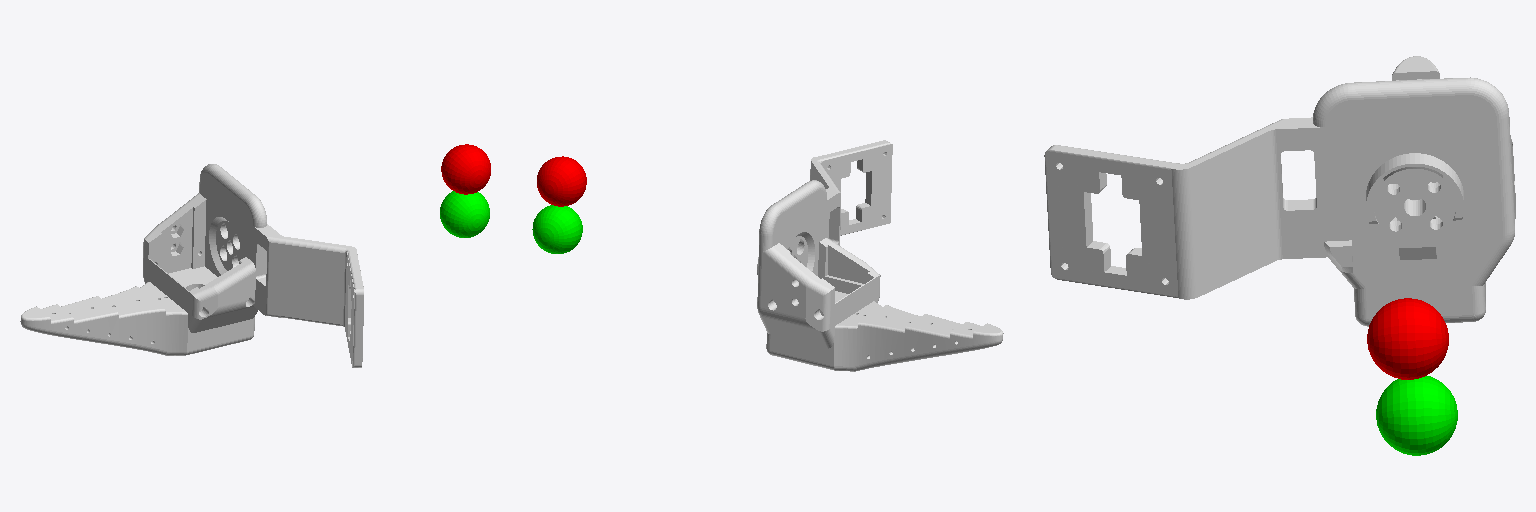
URDF robot description (so101_new_calib):
<?xml version="1.0" encoding="utf-8"?>
<!-- Generated using onshape-to-robot -->
<!-- Onshape https://cad.onshape.com/documents/7715cc284bb430fe6dab4ffd/w/4fd0791b683777b02f8d975a/e/826c553ede3b7592eb9ca800 -->
<robot name="so101_new_calib">

  <!-- Materials -->
  <material name="3d_printed">
    <color rgba="0.9 0.9 0.9 1.0"/>
  </material>
  <material name="sts3215">
    <color rgba="0.1 0.1 0.1 1.0"/>
  </material>

  <!-- Link base -->
  <link name="base_link">
    <inertial>
      <origin xyz="0.0137179 -5.19711e-05 0.0334843" rpy="0 0 0"/>
      <mass value="0.147"/>
      <inertia ixx="0.000114686" ixy="-4.59787e-07" ixz="4.97151e-06" iyy="0.000136117" iyz="9.75275e-08" izz="0.000130364"/>
    </inertial>
    <!-- Part base_motor_holder_so101_v1 -->
    <visual>
      <origin xyz="-0.00636471 -9.94414e-05 -0.0024" rpy="1.5708 -1.67685e-15 1.5708"/>
      <geometry>
        <mesh filename="assets/base_motor_holder_so101_v1.stl"/>
      </geometry>
      <material name="3d_printed"/>
    </visual>
    <collision>
      <origin xyz="-0.00636471 -9.94414e-05 -0.0024" rpy="1.5708 -1.67685e-15 1.5708"/>
      <geometry>
        <mesh filename="assets/base_motor_holder_so101_v1.stl"/>
      </geometry>
    </collision>
    <!-- Part base_so101_v2 -->
    <visual>
      <origin xyz="-0.00636471 -8.97657e-09 -0.0024" rpy="1.5708 -2.78073e-29 1.5708"/>
      <geometry>
        <mesh filename="assets/base_so101_v2.stl"/>
      </geometry>
      <material name="3d_printed"/>
    </visual>
    <collision>
      <origin xyz="-0.00636471 -8.97657e-09 -0.0024" rpy="1.5708 -2.78073e-29 1.5708"/>
      <geometry>
        <mesh filename="assets/base_so101_v2.stl"/>
      </geometry>
    </collision>
    <!-- Part sts3215_03a_v1 -->
    <visual>
      <origin xyz="0.0263353 -8.97657e-09 0.0437" rpy="-8.21148e-16 7.84513e-18 1.249e-15"/>
      <geometry>
        <mesh filename="assets/sts3215_03a_v1.stl"/>
      </geometry>
      <material name="sts3215"/>
    </visual>
    <collision>
      <origin xyz="0.0263353 -8.97657e-09 0.0437" rpy="-8.21148e-16 7.84513e-18 1.249e-15"/>
      <geometry>
        <mesh filename="assets/sts3215_03a_v1.stl"/>
      </geometry>
    </collision>
    <!-- Part waveshare_mounting_plate_so101_v2 -->
    <visual>
      <origin xyz="-0.0309827 -0.000199441 0.0474" rpy="1.5708 -1.35493e-14 1.5708"/>
      <geometry>
        <mesh filename="assets/waveshare_mounting_plate_so101_v2.stl"/>
      </geometry>
      <material name="3d_printed"/>
    </visual>
    <collision>
      <origin xyz="-0.0309827 -0.000199441 0.0474" rpy="1.5708 -1.35493e-14 1.5708"/>
      <geometry>
        <mesh filename="assets/waveshare_mounting_plate_so101_v2.stl"/>
      </geometry>
    </collision>
  </link>

  <!-- Link shoulder -->
  <link name="shoulder_link">
    <inertial>
      <origin xyz="-0.0307604 -1.66727e-05 -0.0252713" rpy="0 0 0"/>
      <mass value="0.100006"/>
      <inertia ixx="8.3759e-05" ixy="7.55525e-08" ixz="-1.16342e-06" iyy="8.10403e-05" iyz="1.54663e-07" izz="2.39783e-05"/>
    </inertial>
    <!-- Part sts3215_03a_v1_2 -->
    <visual>
      <origin xyz="-0.0303992 0.000422241 -0.0417" rpy="1.5708 1.5708 0"/>
      <geometry>
        <mesh filename="assets/sts3215_03a_v1.stl"/>
      </geometry>
      <material name="sts3215"/>
    </visual>
    <collision>
      <origin xyz="-0.0303992 0.000422241 -0.0417" rpy="1.5708 1.5708 0"/>
      <geometry>
        <mesh filename="assets/sts3215_03a_v1.stl"/>
      </geometry>
    </collision>
    <!-- Part motor_holder_so101_base_v1 -->
    <visual>
      <origin xyz="-0.0675992 -0.000177759 0.0158499" rpy="1.5708 -1.5708 0"/>
      <geometry>
        <mesh filename="assets/motor_holder_so101_base_v1.stl"/>
      </geometry>
      <material name="3d_printed"/>
    </visual>
    <collision>
      <origin xyz="-0.0675992 -0.000177759 0.0158499" rpy="1.5708 -1.5708 0"/>
      <geometry>
        <mesh filename="assets/motor_holder_so101_base_v1.stl"/>
      </geometry>
    </collision>
    <!-- Part rotation_pitch_so101_v1 -->
    <visual>
      <origin xyz="0.0122008 2.22413e-05 0.0464" rpy="-1.5708 2.35221e-33 0"/>
      <geometry>
        <mesh filename="assets/rotation_pitch_so101_v1.stl"/>
      </geometry>
      <material name="3d_printed"/>
    </visual>
    <collision>
      <origin xyz="0.0122008 2.22413e-05 0.0464" rpy="-1.5708 2.35221e-33 0"/>
      <geometry>
        <mesh filename="assets/rotation_pitch_so101_v1.stl"/>
      </geometry>
    </collision>
  </link>

  <!-- Link upper_arm -->
  <link name="upper_arm_link">
    <inertial>
      <origin xyz="-0.0898471 -0.00838224 0.0184089" rpy="0 0 0"/>
      <mass value="0.103"/>
      <inertia ixx="4.08002e-05" ixy="-1.97819e-05" ixz="-4.03016e-08" iyy="0.000147318" iyz="8.97326e-09" izz="0.000142487"/>
    </inertial>
    <!-- Part sts3215_03a_v1_3 -->
    <visual>
      <origin xyz="-0.11257 -0.0155 0.0187" rpy="-3.14159 -5.27356e-16 -1.5708"/>
      <geometry>
        <mesh filename="assets/sts3215_03a_v1.stl"/>
      </geometry>
      <material name="sts3215"/>
    </visual>
    <collision>
      <origin xyz="-0.11257 -0.0155 0.0187" rpy="-3.14159 -5.27356e-16 -1.5708"/>
      <geometry>
        <mesh filename="assets/sts3215_03a_v1.stl"/>
      </geometry>
    </collision>
    <!-- Part upper_arm_so101_v1 -->
    <visual>
      <origin xyz="-0.065085 0.012 0.0182" rpy="3.14159 -0 -1.30911e-30"/>
      <geometry>
        <mesh filename="assets/upper_arm_so101_v1.stl"/>
      </geometry>
      <material name="3d_printed"/>
    </visual>
    <collision>
      <origin xyz="-0.065085 0.012 0.0182" rpy="3.14159 -0 -1.30911e-30"/>
      <geometry>
        <mesh filename="assets/upper_arm_so101_v1.stl"/>
      </geometry>
    </collision>
  </link>

  <!-- Link lower_arm -->
  <link name="lower_arm_link">
    <inertial>
      <origin xyz="-0.0980701 0.00324376 0.0182831" rpy="0 0 0"/>
      <mass value="0.104"/>
      <inertia ixx="2.87438e-05" ixy="7.41152e-06" ixz="1.26409e-06" iyy="0.000159844" iyz="-4.90188e-08" izz="0.00014529"/>
    </inertial>
    <!-- Part under_arm_so101_v1 -->
    <visual>
      <origin xyz="-0.0648499 -0.032 0.0182" rpy="3.14159 -0 6.67202e-31"/>
      <geometry>
        <mesh filename="assets/under_arm_so101_v1.stl"/>
      </geometry>
      <material name="3d_printed"/>
    </visual>
    <collision>
      <origin xyz="-0.0648499 -0.032 0.0182" rpy="3.14159 -0 6.67202e-31"/>
      <geometry>
        <mesh filename="assets/under_arm_so101_v1.stl"/>
      </geometry>
    </collision>
    <!-- Part motor_holder_so101_wrist_v1 -->
    <visual>
      <origin xyz="-0.0648499 -0.032 0.018" rpy="-3.14159 -2.55351e-15 -1.83387e-30"/>
      <geometry>
        <mesh filename="assets/motor_holder_so101_wrist_v1.stl"/>
      </geometry>
      <material name="3d_printed"/>
    </visual>
    <collision>
      <origin xyz="-0.0648499 -0.032 0.018" rpy="-3.14159 -2.55351e-15 -1.83387e-30"/>
      <geometry>
        <mesh filename="assets/motor_holder_so101_wrist_v1.stl"/>
      </geometry>
    </collision>
    <!-- Part sts3215_03a_v1_4 -->
    <visual>
      <origin xyz="-0.1224 0.0052 0.0187" rpy="-3.14159 -7.88861e-31 -3.14159"/>
      <geometry>
        <mesh filename="assets/sts3215_03a_v1.stl"/>
      </geometry>
      <material name="sts3215"/>
    </visual>
    <collision>
      <origin xyz="-0.1224 0.0052 0.0187" rpy="-3.14159 -7.88861e-31 -3.14159"/>
      <geometry>
        <mesh filename="assets/sts3215_03a_v1.stl"/>
      </geometry>
    </collision>
  </link>

  <!-- Link wrist -->
  <link name="wrist_link">
    <inertial>
      <origin xyz="-0.000103312 -0.0386143 0.0281156" rpy="0 0 0"/>
      <mass value="0.079"/>
      <inertia ixx="3.68263e-05" ixy="1.7893e-08" ixz="-5.28128e-08" iyy="2.5391e-05" iyz="3.6412e-06" izz="2.1e-05"/>
    </inertial>
    <!-- Part sts3215_03a_no_horn_v1 -->
    <visual>
      <origin xyz="8.32667e-17 -0.0424 0.0306" rpy="1.5708 1.5708 0"/>
      <geometry>
        <mesh filename="assets/sts3215_03a_no_horn_v1.stl"/>
      </geometry>
      <material name="sts3215"/>
    </visual>
    <collision>
      <origin xyz="8.32667e-17 -0.0424 0.0306" rpy="1.5708 1.5708 0"/>
      <geometry>
        <mesh filename="assets/sts3215_03a_no_horn_v1.stl"/>
      </geometry>
    </collision>
    <!-- Part wrist_roll_pitch_so101_v2 -->
    <visual>
      <origin xyz="0 -0.028 0.0181" rpy="-1.5708 -1.5708 0"/>
      <geometry>
        <mesh filename="assets/wrist_roll_pitch_so101_v2.stl"/>
      </geometry>
      <material name="3d_printed"/>
    </visual>
    <collision>
      <origin xyz="0 -0.028 0.0181" rpy="-1.5708 -1.5708 0"/>
      <geometry>
        <mesh filename="assets/wrist_roll_pitch_so101_v2.stl"/>
      </geometry>
    </collision>
  </link>

  <!-- Link gripper -->
  <link name="gripper_link">
    <inertial>
      <origin xyz="0.000213627 0.000245138 -0.025187" rpy="0 0 0"/>
      <mass value="0.087"/>
      <inertia ixx="2.75087e-05" ixy="-3.35241e-07" ixz="-5.7352e-06" iyy="4.33657e-05" iyz="-5.17847e-08" izz="3.45059e-05"/>
    </inertial>
    <!-- Part sts3215_03a_v1_5 -->
    <visual>
      <origin xyz="0.0077 0.0001 -0.0234" rpy="-1.5708 -5.19179e-17 -1.66533e-16"/>
      <geometry>
        <mesh filename="assets/sts3215_03a_v1.stl"/>
      </geometry>
      <material name="sts3215"/>
    </visual>
    <collision>
      <origin xyz="0.0077 0.0001 -0.0234" rpy="-1.5708 -5.19179e-17 -1.66533e-16"/>
      <geometry>
        <mesh filename="assets/sts3215_03a_v1.stl"/>
      </geometry>
    </collision>
    <!-- Part wrist_roll_follower_so101_v1 -->
    <visual>
      <origin xyz="8.32667e-17 -0.000218214 0.000949706" rpy="-3.14159 -5.55112e-17 0"/>
      <geometry>
        <mesh filename="assets/Wrist_Cam_Mount_32x32_UVC_Module_SO101.stl" scale="0.001 0.001 0.001"/>
      </geometry>
      <material name="3d_printed"/>
    </visual>
    <collision>
      <origin xyz="8.32667e-17 -0.000218214 0.000949706" rpy="-3.14159 -5.55112e-17 0"/>
      <geometry>
        <mesh filename="assets/Wrist_Cam_Mount_32x32_UVC_Module_SO101.stl" scale="0.001 0.001 0.001"/>
      </geometry>
    </collision>
  </link>

  <joint name="gripper_camera_joint" type="fixed">
    <parent link="gripper_link"/>
    <child link="camera_link"/>
    <origin xyz="0.0 -0.0383 -0.0680" rpy="-3.14159 1.1344639 1.5707968"/>
  </joint>

  <link name="camera_link">
    <inertial>
      <mass value="1e-6"/>
      <inertia ixx="1e-9" ixy="0" ixz="0" iyy="1e-9" iyz="0" izz="1e-9"/>
    </inertial>
  </link>

  <!-- Gripper frame (dummy link + fixed joint) -->
  <link name="gripper_frame_link">
    <origin xyz="0 0 0" rpy="0 -0 0"/>
    <inertial>
      <origin xyz="0 0 0" rpy="0 0 0"/>
      <mass value="1e-9"/>
      <inertia ixx="0" ixy="0" ixz="0" iyy="0" iyz="0" izz="0"/>
    </inertial>
  </link>

  <joint name="gripper_frame_joint" type="fixed">
    <origin xyz="-0.0079 -0.000218121 -0.0981274" rpy="0 3.14159 0"/>
    <parent link="gripper_link"/>
    <child link="gripper_frame_link"/>
    <axis xyz="0 0 0"/>
  </joint>

  <!-- Link moving_jaw_so101_v1 -->
  <link name="moving_jaw_so101_v1_link">
    <inertial>
      <origin xyz="-0.00157495 -0.0300244 0.0192755" rpy="0 0 0"/>
      <mass value="0.012"/>
      <inertia ixx="6.61427e-06" ixy="-3.19807e-07" ixz="-5.90717e-09" iyy="1.89032e-06" iyz="-1.09945e-07" izz="5.28738e-06"/>
    </inertial>
    <!-- Part moving_jaw_so101_v1 -->
    <visual>
      <origin xyz="-5.55112e-17 -5.55112e-17 0.0189" rpy="9.53145e-17 6.93889e-18 1.24077e-24"/>
      <geometry>
        <mesh filename="assets/moving_jaw_so101_v1.stl"/>
      </geometry>
      <material name="3d_printed"/>
    </visual>
    <collision>
      <origin xyz="-5.55112e-17 -5.55112e-17 0.0189" rpy="9.53145e-17 6.93889e-18 1.24077e-24"/>
      <geometry>
        <mesh filename="assets/moving_jaw_so101_v1.stl"/>
      </geometry>
    </collision>
  </link>

  <!-- Joint from gripper to moving_jaw_so101_v1 -->
  <joint name="gripper" type="revolute">
    <origin xyz="0.0202 0.0188 -0.0234" rpy="1.5708 -5.24284e-08 -1.41553e-15"/>
    <parent link="gripper_link"/>
    <child link="moving_jaw_so101_v1_link"/>
    <axis xyz="0 0 1"/>
    <limit effort="10" velocity="10" lower="-0.174533" upper="1.74533"/>
  </joint>

  <transmission name="gripper_trans">
    <type>transmission_interface/SimpleTransmission</type>
    <joint name="gripper">
      <hardwareInterface>hardware_interface/PositionJointInterface</hardwareInterface>
    </joint>
    <actuator name="motor6">
      <hardwareInterface>hardware_interface/PositionJointInterface</hardwareInterface>
      <mechanicalReduction>1</mechanicalReduction>
    </actuator>
  </transmission>

  <!-- Joint from wrist to gripper -->
  <joint name="wrist_roll" type="revolute">
    <origin xyz="5.55112e-17 -0.0611 0.0181" rpy="1.5708 0.0486795 3.14159"/>
    <parent link="wrist_link"/>
    <child link="gripper_link"/>
    <axis xyz="0 0 1"/>
    <limit effort="10" velocity="10" lower="-2.74385" upper="2.84121"/>
  </joint>

  <transmission name="wrist_roll_trans">
    <type>transmission_interface/SimpleTransmission</type>
    <joint name="wrist_roll">
      <hardwareInterface>hardware_interface/PositionJointInterface</hardwareInterface>
    </joint>
    <actuator name="motor5">
      <hardwareInterface>hardware_interface/PositionJointInterface</hardwareInterface>
      <mechanicalReduction>1</mechanicalReduction>
    </actuator>
  </transmission>

  <!-- Joint from lower_arm to wrist -->
  <joint name="wrist_flex" type="revolute">
    <origin xyz="-0.1349 0.0052 3.62355e-17" rpy="4.02456e-15 8.67362e-16 -1.5708"/>
    <parent link="lower_arm_link"/>
    <child link="wrist_link"/>
    <axis xyz="0 0 1"/>
    <limit effort="10" velocity="10" lower="-1.65806" upper="1.65806"/>
  </joint>

  <transmission name="wrist_flex_trans">
    <type>transmission_interface/SimpleTransmission</type>
    <joint name="wrist_flex">
      <hardwareInterface>hardware_interface/PositionJointInterface</hardwareInterface>
    </joint>
    <actuator name="motor4">
      <hardwareInterface>hardware_interface/PositionJointInterface</hardwareInterface>
      <mechanicalReduction>1</mechanicalReduction>
    </actuator>
  </transmission>

  <!-- Joint from upper_arm to lower_arm -->
  <!-- Note: 5-degree calibration offset applied to joint limits -->
  <joint name="elbow_flex" type="revolute">
    <origin xyz="-0.11257 -0.028 1.73763e-16" rpy="-3.63608e-16 8.74301e-16 1.5708"/>
    <parent link="upper_arm_link"/>
    <child link="lower_arm_link"/>
    <axis xyz="0 0 1"/>
    <limit effort="10" velocity="10" lower="-1.69" upper="1.69"/>
  </joint>

  <transmission name="elbow_flex_trans">
    <type>transmission_interface/SimpleTransmission</type>
    <joint name="elbow_flex">
      <hardwareInterface>hardware_interface/PositionJointInterface</hardwareInterface>
    </joint>
    <actuator name="motor3">
      <hardwareInterface>hardware_interface/PositionJointInterface</hardwareInterface>
      <mechanicalReduction>1</mechanicalReduction>
    </actuator>
  </transmission>

  <!-- Joint from shoulder to upper_arm -->
  <joint name="shoulder_lift" type="revolute">
    <origin xyz="-0.0303992 -0.0182778 -0.0542" rpy="-1.5708 -1.5708 0"/>
    <parent link="shoulder_link"/>
    <child link="upper_arm_link"/>
    <axis xyz="0 0 1"/>
    <limit effort="10" velocity="10" lower="-1.74533" upper="1.74533"/>
  </joint>

  <transmission name="shoulder_lift_trans">
    <type>transmission_interface/SimpleTransmission</type>
    <joint name="shoulder_lift">
      <hardwareInterface>hardware_interface/PositionJointInterface</hardwareInterface>
    </joint>
    <actuator name="motor2">
      <hardwareInterface>hardware_interface/PositionJointInterface</hardwareInterface>
      <mechanicalReduction>1</mechanicalReduction>
    </actuator>
  </transmission>

  <!-- Joint from base to shoulder -->
  <joint name="shoulder_pan" type="revolute">
    <origin xyz="0.0388353 -8.97657e-09 0.0624" rpy="3.14159 4.18253e-17 -3.14159"/>
    <parent link="base_link"/>
    <child link="shoulder_link"/>
    <axis xyz="0 0 1"/>
    <limit effort="10" velocity="10" lower="-1.91986" upper="1.91986"/>
  </joint>

  <transmission name="shoulder_pan_trans">
    <type>transmission_interface/SimpleTransmission</type>
    <joint name="shoulder_pan">
      <hardwareInterface>hardware_interface/PositionJointInterface</hardwareInterface>
    </joint>
    <actuator name="motor1">
      <hardwareInterface>hardware_interface/PositionJointInterface</hardwareInterface>
      <mechanicalReduction>1</mechanicalReduction>
    </actuator>
  </transmission> 

  <!-- fake joints for useful data -->
  <joint name="gripper_link_tip_joint" type="fixed">
    <origin rpy="1.57 0 3.14" xyz="-0.01 0 -0.097"/>
    <parent link="gripper_link"/>
    <child link="gripper_link_tip"/>
  </joint>
  <link name="gripper_link_tip">
    <visual>
      <origin
        xyz="0 0 0"
        rpy="0 0 0" />
      <geometry>
        <sphere radius="0.01" />
      </geometry>
      <material name="green">
        <color rgba="0 1 0 0.5"/>
      </material>
    </visual>
  </link>
  <joint name="moving_jaw_so101_v1_link_tip_joint" type="fixed">
    <origin rpy="0 0 0" xyz="-0.01 -0.073 0.02"/>
    <parent link="moving_jaw_so101_v1_link"/>
    <child link="moving_jaw_so101_v1_link_tip"/>
  </joint>
  <link name="moving_jaw_so101_v1_link_tip">
    <visual>
      <origin
        xyz="0 0 0"
        rpy="0 0 0" />
      <geometry>
        <sphere radius="0.01" />
      </geometry>
      <material name="red">
        <color rgba="1 0 0 0.5"/>
      </material>
    </visual>
  </link>

</robot>

--- Facts derived from the render (not from the file) ---
The picture shows the robot from 3 angles, left to right: view 1: azimuth 30°, elevation 25°; view 2: azimuth 150°, elevation 25°; view 3: azimuth 270°, elevation 25°; orthographic projection.
Robot: so101_new_calib — 11 links, 10 joints (6 revolute, 4 fixed); root link base_link; default pose: all joints at 0.
Links seen in each view (by area): view 1: gripper_link, moving_jaw_so101_v1_link_tip, gripper_link_tip; view 2: gripper_link, moving_jaw_so101_v1_link_tip, gripper_link_tip; view 3: gripper_link, moving_jaw_so101_v1_link_tip, gripper_link_tip.
Boxes of the visible links, x1,y1,x2,y2 form: gripper_link: (20,164,363,367); moving_jaw_so101_v1_link_tip: (441,144,490,194); gripper_link_tip: (440,191,489,237); gripper_link: (757,140,1003,371); moving_jaw_so101_v1_link_tip: (537,156,586,206); gripper_link_tip: (532,205,582,253); gripper_link: (1044,56,1515,326); moving_jaw_so101_v1_link_tip: (1367,298,1448,379); gripper_link_tip: (1376,376,1457,455).
Size in the robot's own frame: 0.2133 by 0.1149 by 0.0664 metres.
1 mesh visuals loaded from 13 distinct referenced files (1 binary STL); not drawn: 16 (reference not matched to a file when rendering).